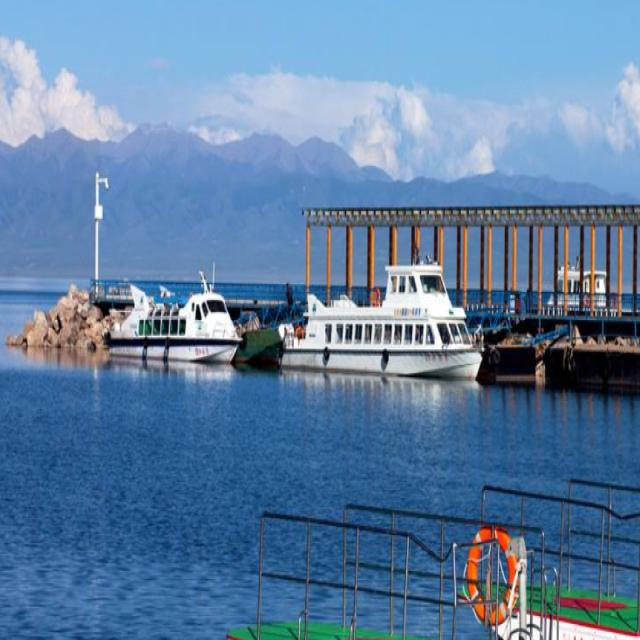houseboat: (289, 257, 480, 376), (114, 276, 242, 369), (548, 257, 620, 320)
